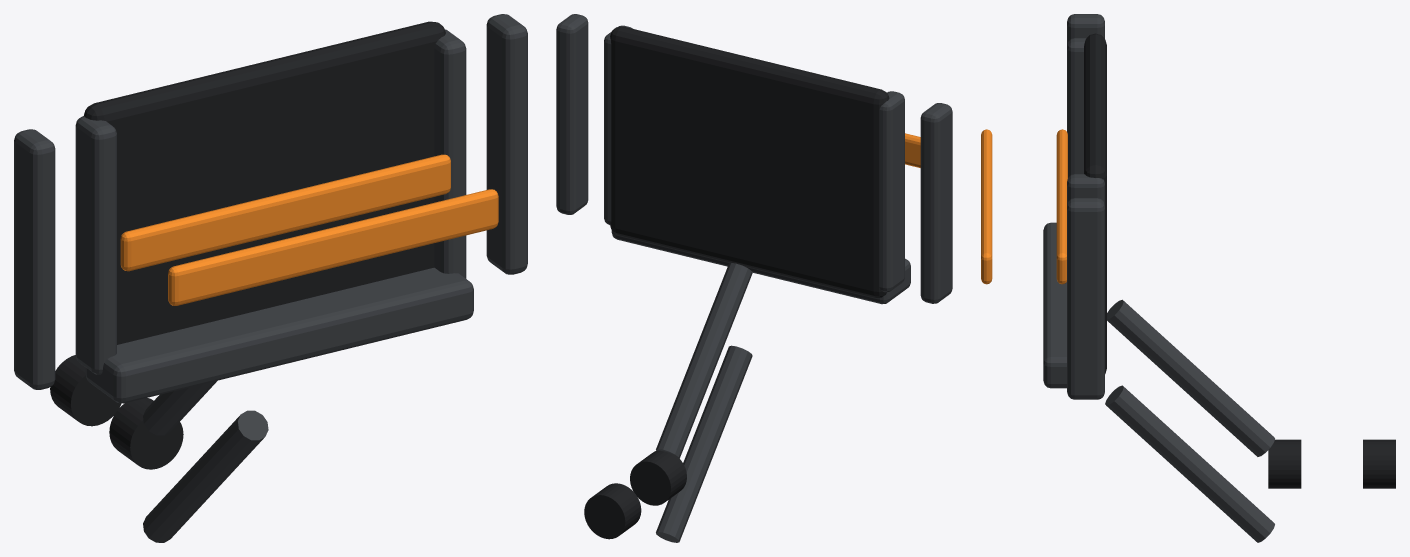
The model's file is zwift-ride-tablet-holder.glb.
The picture shows the model from 3 angles, left to right: view 1: azimuth 30°, elevation 25°; view 2: azimuth 150°, elevation 25°; view 3: azimuth 270°, elevation 25°; orthographic projection. The views are drawn at different scales.
Parts seen in each view (by area): view 1: zwift-ride-tablet-holder_BACKPLATE, zwift-ride-tablet-holder_BOTTOM_LIP, zwift-ride-tablet-holder_STRAP_EXPLODED, zwift-ride-tablet-holder_STRAP, zwift-ride-tablet-holder_SIDE_L_EXPLODED, zwift-ride-tablet-holder_SIDE_L, zwift-ride-tablet-holder_SIDE_R_EXPLODED, zwift-ride-tablet-holder_SIDE_R, zwift-ride-tablet-holder_MOUNT_ARM_EXPLODED, zwift-ride-tablet-holder_BAR_CLAMP, zwift-ride-tablet-holder_BAR_CLAMP_EXPLODED, zwift-ride-tablet-holder_MOUNT_ARM; view 2: zwift-ride-tablet-holder_BACKPLATE, zwift-ride-tablet-holder_SIDE_L_EXPLODED, zwift-ride-tablet-holder_SIDE_R_EXPLODED, zwift-ride-tablet-holder_MOUNT_ARM, zwift-ride-tablet-holder_MOUNT_ARM_EXPLODED, zwift-ride-tablet-holder_SIDE_L, zwift-ride-tablet-holder_BAR_CLAMP_EXPLODED, zwift-ride-tablet-holder_BAR_CLAMP, zwift-ride-tablet-holder_BOTTOM_LIP, zwift-ride-tablet-holder_SIDE_R, zwift-ride-tablet-holder_STRAP_EXPLODED; view 3: zwift-ride-tablet-holder_SIDE_R_EXPLODED, zwift-ride-tablet-holder_MOUNT_ARM_EXPLODED, zwift-ride-tablet-holder_MOUNT_ARM, zwift-ride-tablet-holder_BACKPLATE, zwift-ride-tablet-holder_BOTTOM_LIP, zwift-ride-tablet-holder_SIDE_L, zwift-ride-tablet-holder_STRAP_EXPLODED, zwift-ride-tablet-holder_STRAP, zwift-ride-tablet-holder_BAR_CLAMP, zwift-ride-tablet-holder_BAR_CLAMP_EXPLODED, zwift-ride-tablet-holder_SIDE_R, zwift-ride-tablet-holder_SIDE_L_EXPLODED.
Boxes of the visible parts, x1,y1,x2,y2 form: zwift-ride-tablet-holder_BACKPLATE: (84,21,445,344); zwift-ride-tablet-holder_BOTTOM_LIP: (85,267,473,403); zwift-ride-tablet-holder_STRAP_EXPLODED: (168,189,498,305); zwift-ride-tablet-holder_STRAP: (120,154,450,271); zwift-ride-tablet-holder_SIDE_L_EXPLODED: (14,129,55,389); zwift-ride-tablet-holder_SIDE_L: (75,116,116,374); zwift-ride-tablet-holder_SIDE_R_EXPLODED: (486,14,527,274); zwift-ride-tablet-holder_SIDE_R: (434,29,466,278); zwift-ride-tablet-holder_MOUNT_ARM_EXPLODED: (143,410,268,542); zwift-ride-tablet-holder_BAR_CLAMP: (109,398,183,469); zwift-ride-tablet-holder_BAR_CLAMP_EXPLODED: (50,355,121,426); zwift-ride-tablet-holder_MOUNT_ARM: (143,380,217,435); zwift-ride-tablet-holder_BACKPLATE: (610,26,889,297); zwift-ride-tablet-holder_SIDE_L_EXPLODED: (920,103,952,303); zwift-ride-tablet-holder_SIDE_R_EXPLODED: (556,14,588,214); zwift-ride-tablet-holder_MOUNT_ARM: (656,263,752,458); zwift-ride-tablet-holder_MOUNT_ARM_EXPLODED: (656,345,752,542); zwift-ride-tablet-holder_SIDE_L: (879,91,904,292); zwift-ride-tablet-holder_BAR_CLAMP_EXPLODED: (584,483,641,539); zwift-ride-tablet-holder_BAR_CLAMP: (630,450,686,505); zwift-ride-tablet-holder_BOTTOM_LIP: (611,230,910,304); zwift-ride-tablet-holder_SIDE_R: (604,25,632,224); zwift-ride-tablet-holder_STRAP_EXPLODED: (905,133,920,167); zwift-ride-tablet-holder_SIDE_R_EXPLODED: (1067,198,1104,399); zwift-ride-tablet-holder_MOUNT_ARM_EXPLODED: (1105,385,1274,542); zwift-ride-tablet-holder_MOUNT_ARM: (1107,299,1274,456); zwift-ride-tablet-holder_BACKPLATE: (1084,33,1106,373); zwift-ride-tablet-holder_BOTTOM_LIP: (1043,222,1066,388); zwift-ride-tablet-holder_SIDE_L: (1067,38,1086,177); zwift-ride-tablet-holder_STRAP_EXPLODED: (981,129,992,284); zwift-ride-tablet-holder_STRAP: (1056,129,1067,284); zwift-ride-tablet-holder_BAR_CLAMP: (1268,439,1301,488); zwift-ride-tablet-holder_BAR_CLAMP_EXPLODED: (1363,439,1395,488); zwift-ride-tablet-holder_SIDE_R: (1067,174,1104,204); zwift-ride-tablet-holder_SIDE_L_EXPLODED: (1067,14,1104,44).
Size of the model in its own units: 0.484 by 0.5149 by 0.4385.
